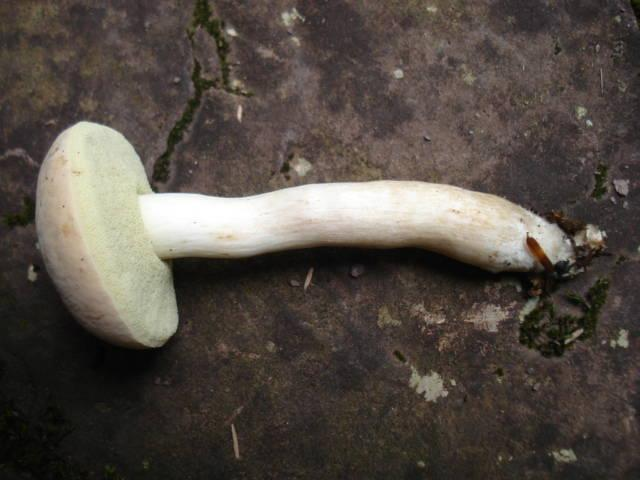Edible Mushroom: (33, 118, 602, 350)
